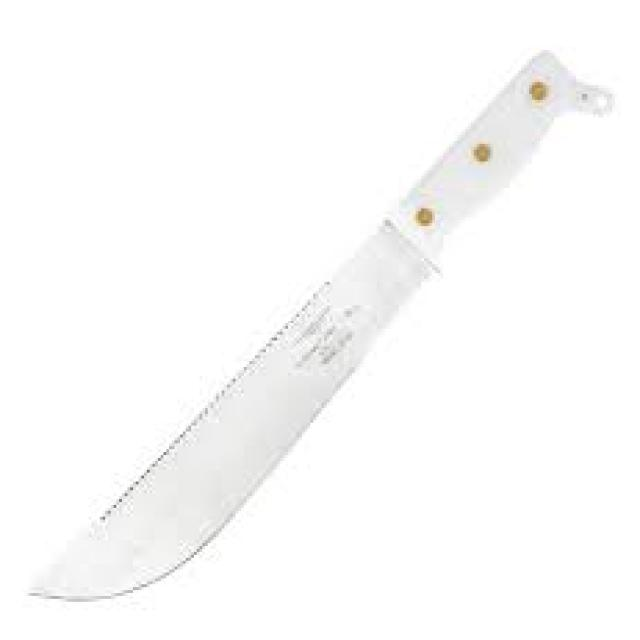knives: (19, 41, 615, 608)
